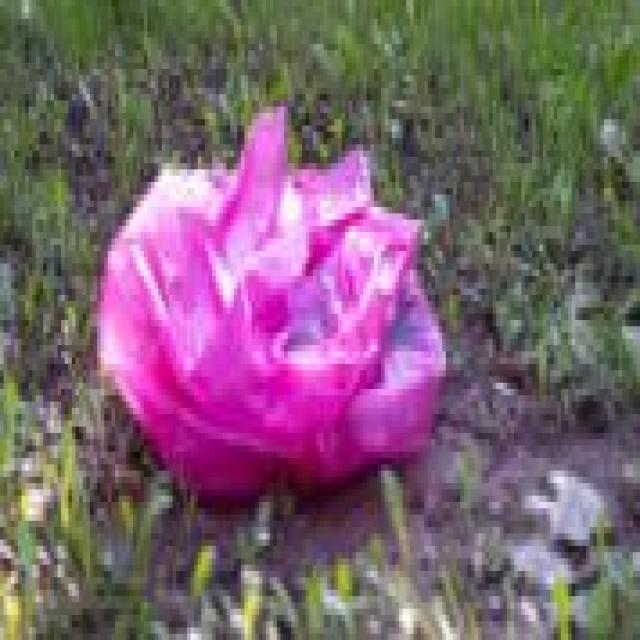general: (93, 100, 446, 502)
